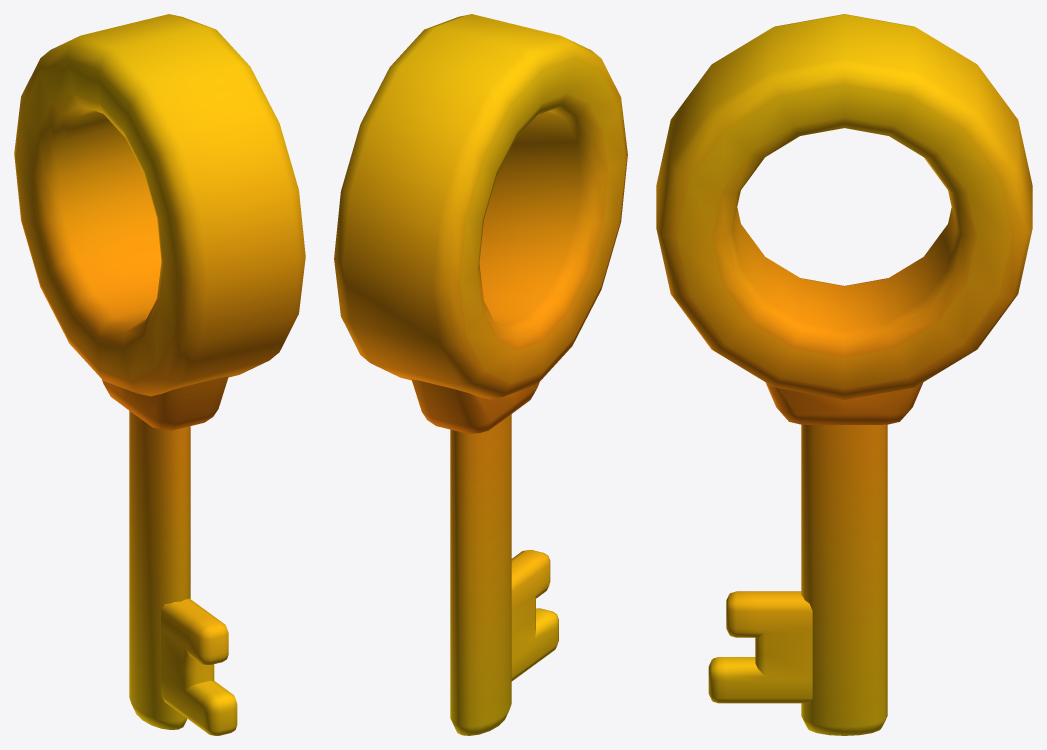
The model's file is Key_V2_00.fbx.
3 views of the same model, side by side, from view 1: azimuth 30°, elevation 25°; view 2: azimuth 150°, elevation 25°; view 3: azimuth 270°, elevation 25° (orthographic).
Parts seen in each view (by area): view 1: Key_V2_00; view 2: Key_V2_00; view 3: Key_V2_00.
Part boxes in pixels (bbox=[...]): Key_V2_00: bbox=[14, 14, 305, 735]; Key_V2_00: bbox=[334, 14, 627, 735]; Key_V2_00: bbox=[656, 14, 1032, 735].
Bounding box in the file's own units: 7.32 × 38.84 × 19.04.
